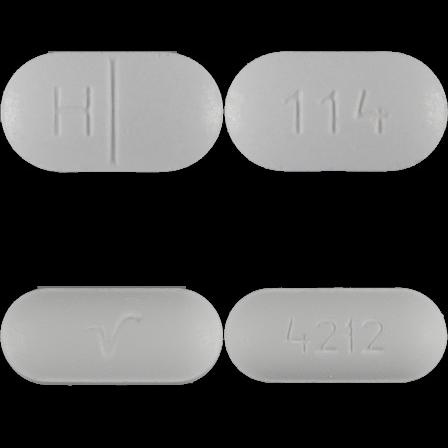63629-1622: (0, 0, 224, 224)
